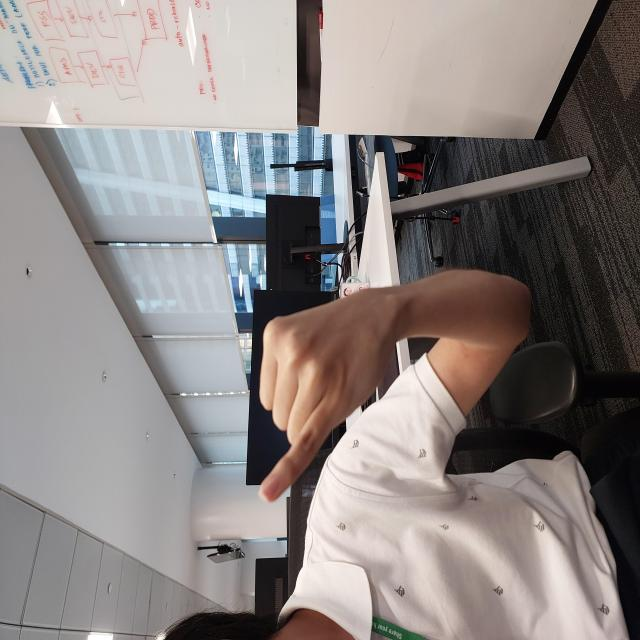J: (137, 245, 354, 397)
